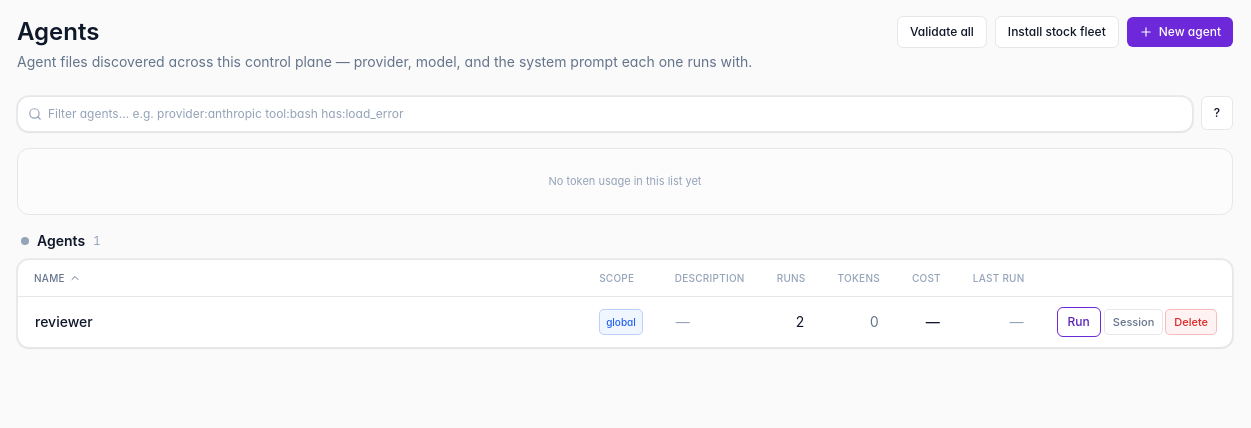
Test: Agents — row actions › surfaces a delete failure via the page error mechanism
The image size is (1251, 428).
Expected: the text "reviewer" is shown, [35,312,93,332]
Click the button with aria-label "Delete reviewer".
click(1191, 322)  # box [1166,310,1216,334]
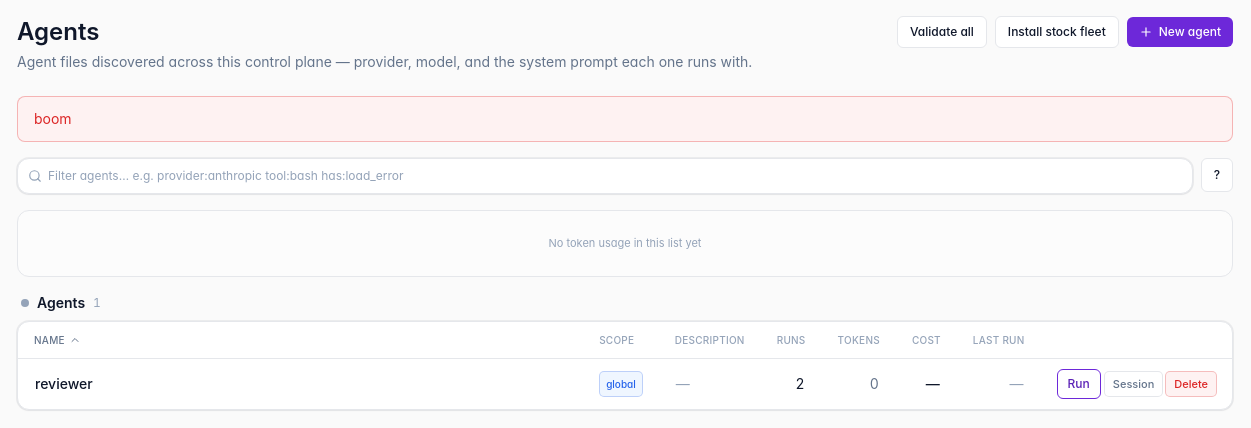
Now the message reads "boom", box [34,110,72,127]
